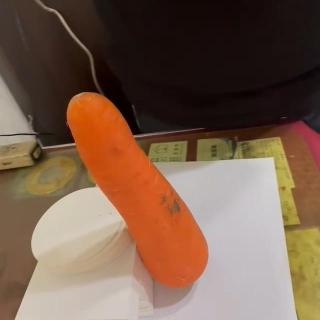carrot: (66, 90, 210, 292)
